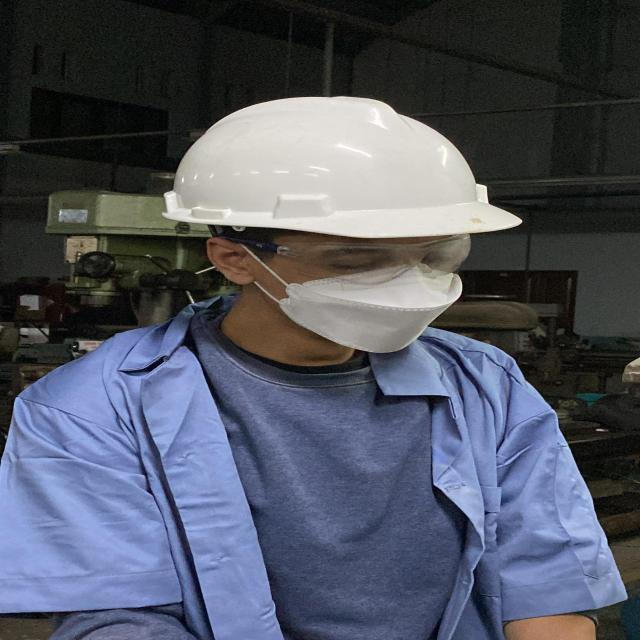glasses: (259, 229, 481, 286)
